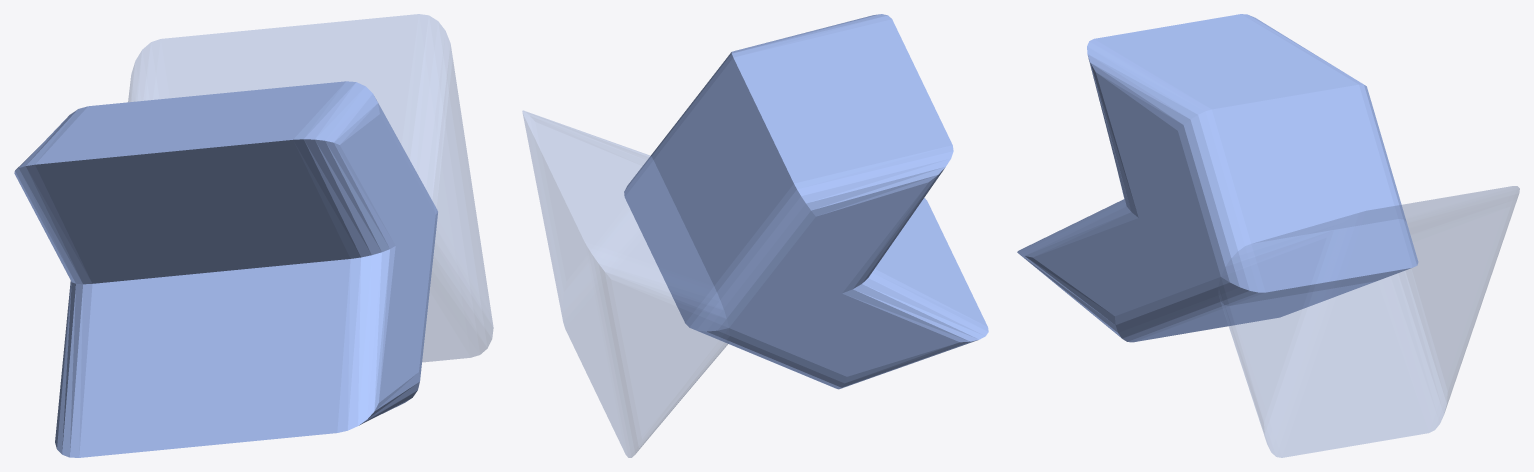
The picture shows the model from 3 angles, left to right: view 1: azimuth 30°, elevation 25°; view 2: azimuth 150°, elevation 25°; view 3: azimuth 270°, elevation 25°; orthographic projection. The views are drawn at different scales.
Size of the model in its own units: 23.53 by 19.95 by 26.38.
